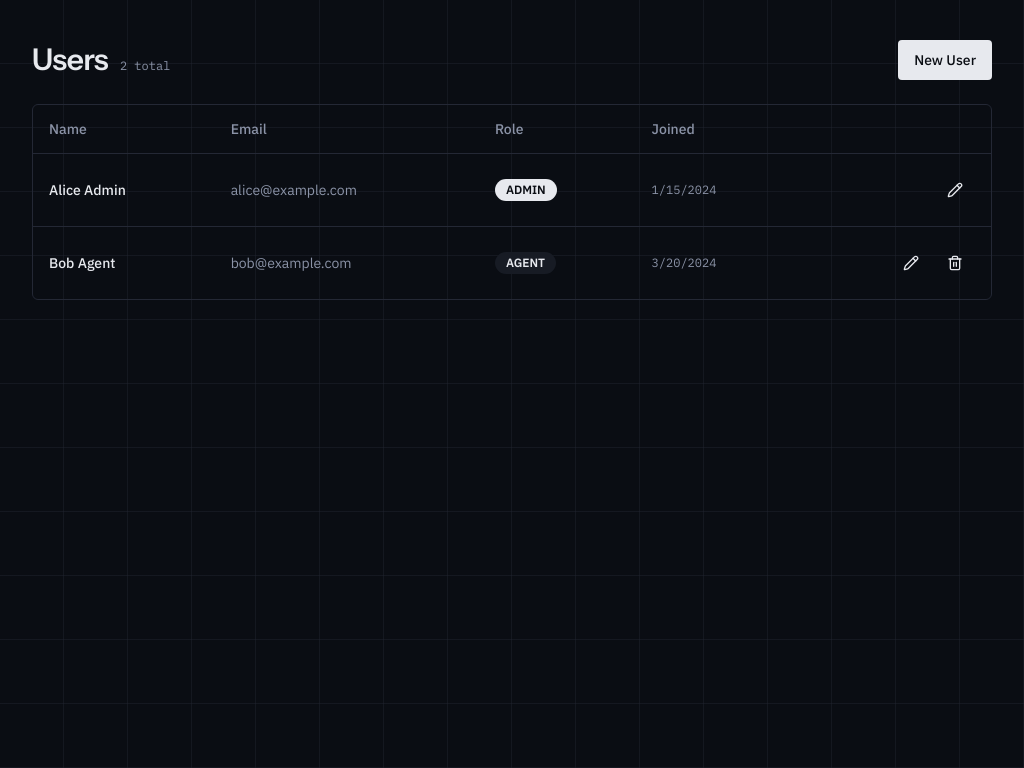
UsersPage - delete dialog › shows the confirmation dialog when the delete button is clicked
The width and height of the screenshot is (1024, 768).
expect the text "Alice Admin" is shown: met, box x1=33 y1=153 x2=215 y2=226
Click the button named "Delete user".
click(955, 262)  # box x1=935 y1=242 x2=975 y2=282
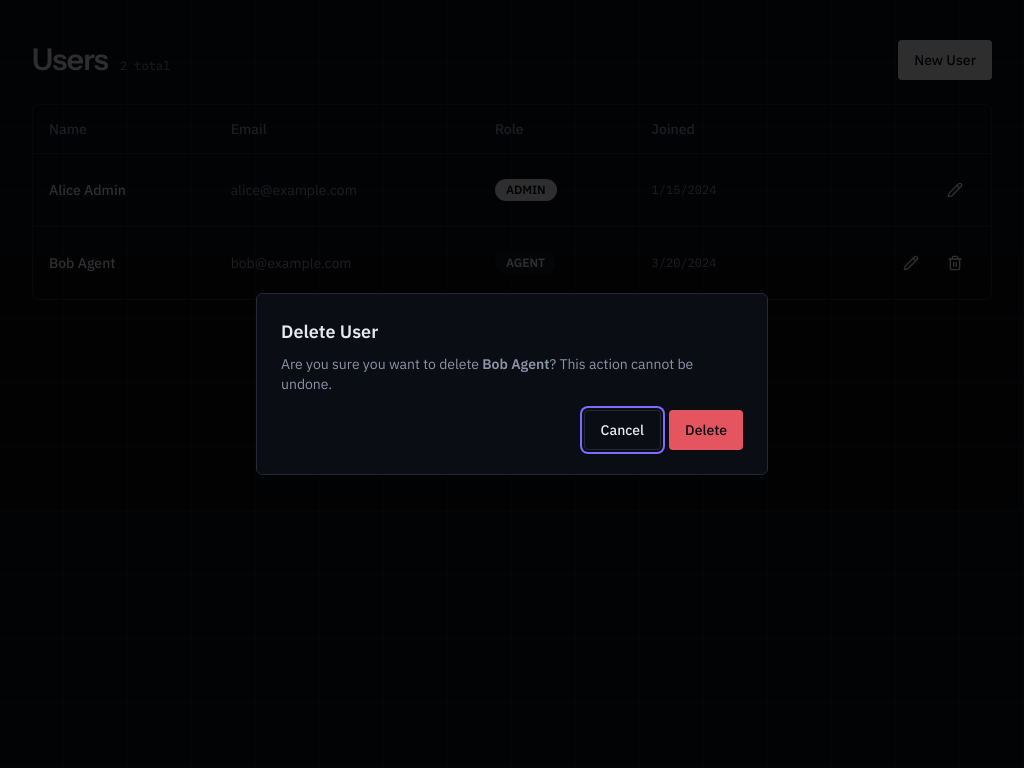
expect the dialog is shown: met, box x1=256 y1=293 x2=768 y2=475
